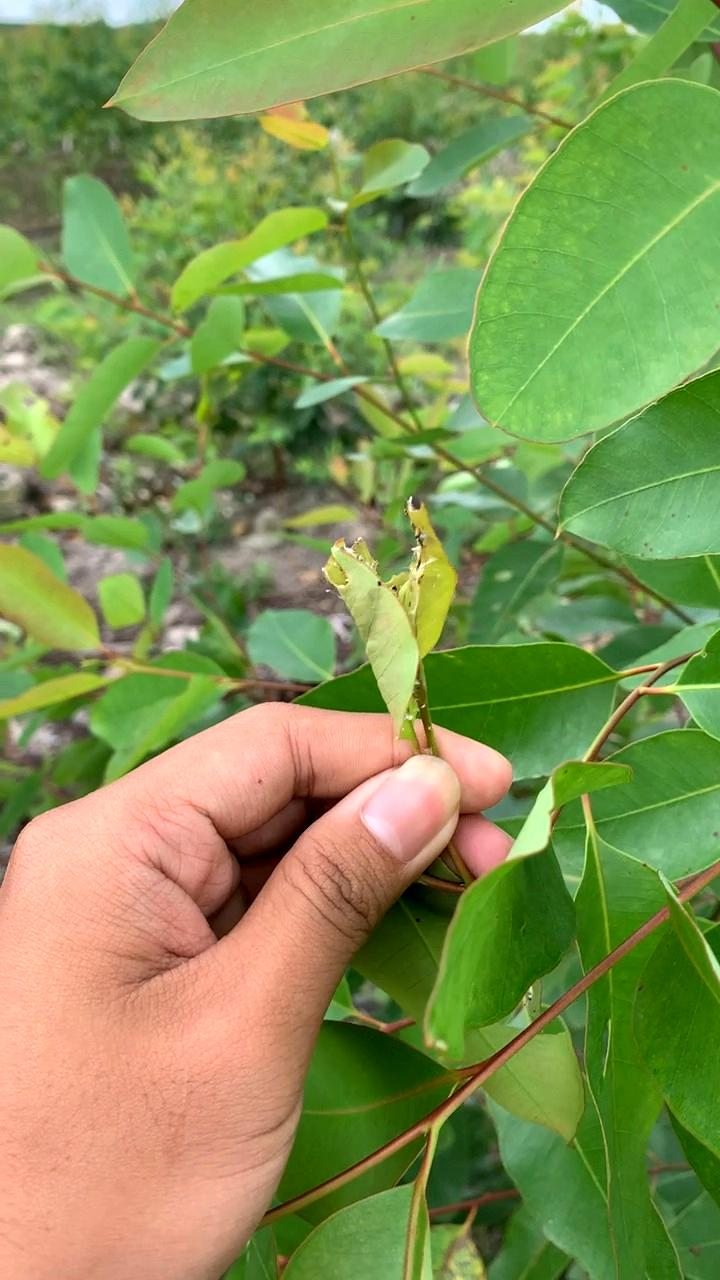Leaf Roller - Leaf: (326, 498, 471, 755)
